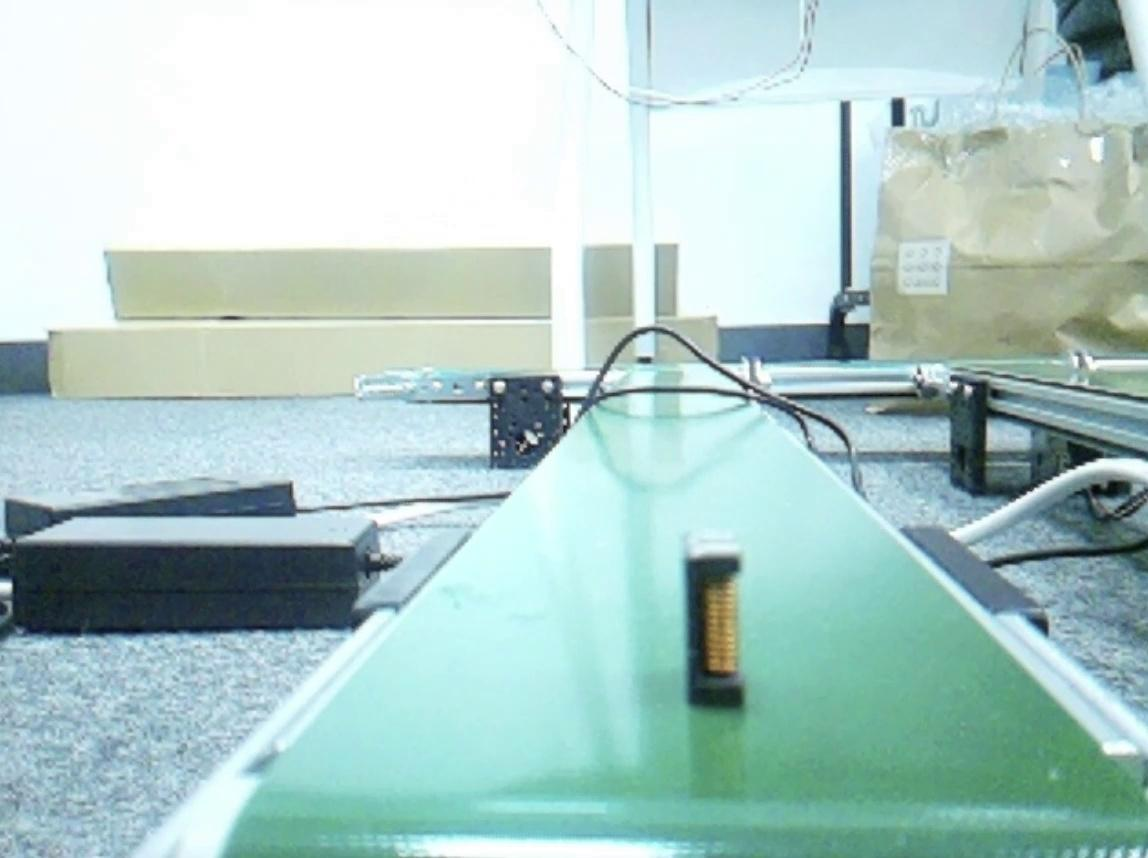inductor: (685, 532, 746, 710)
